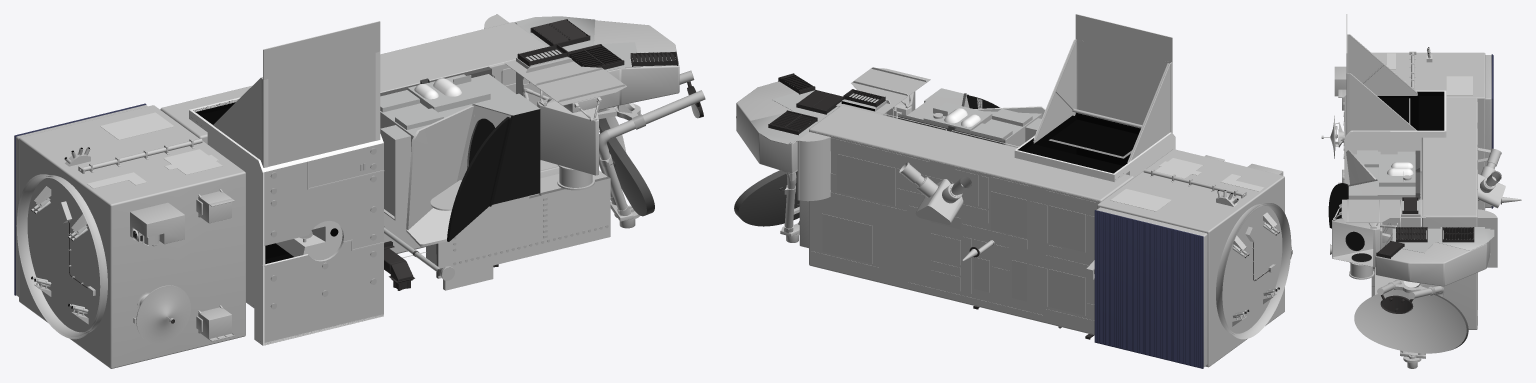
File: Aura_MainBody.obj
The picture shows the model from 3 angles, left to right: view 1: azimuth 30°, elevation 25°; view 2: azimuth 150°, elevation 25°; view 3: azimuth 270°, elevation 25°; orthographic projection. The views are drawn at different scales.
Parts seen in each view (by area): view 1: Main Body_AuraGold, Main Body_TEStop-z, Main Body_TEStop-hood-z, Main Body_aura-mls-sp-ztop, Main Body_aura-hrdls-z-black, Main Body_aura-hrdls-inst-zwhite, Main Body_FLAT_WHITE, Main Body_aura-mainbox-grey, Main Body_TES white, Main Body_aura-hrdls-radiator, Main Body_aura-mainbox-white-flat, Main Body_aura-mainbox-sil-refl-panl (+10 smaller); view 2: Main Body_AuraGold, Main Body_AQUA-SolarPanelFaces, Main Body_TES white, Main Body_aura-mainRadiators55, Main Body_aura-mainbox-grey, Main Body_metalStSG, Main Body_TES interior, Main Body_aura-hrdls-radiator, Main Body_FLAT_WHITE, Main Body_TESblack, Main Body_aura-mainbox-white-flat, Main Body_aura-mainbox-sil-refl-panl (+4 smaller); view 3: Main Body_AuraGold, Main Body_aura-mainRadiators55, Main Body_TES white, Main Body_FLAT_WHITE, Main Body_aura-mainbox-grey, Main Body_aura-hrdls-radiator, Main Body_aura-mainbox-white-flat, Main Body_TES interior, Main Body_aura-mls-radiators-new, Main Body_aura-hrdls-z-black, Main Body_aura-mainbox-sil-refl-panl, Main Body_aura-hrdls-inst-zwhite (+8 smaller).
Boxes of the visible parts, box(x1,y1,x2,y2) form: Main Body_AuraGold: box(16, 14, 705, 368); Main Body_TEStop-z: box(264, 143, 383, 345); Main Body_TEStop-hood-z: box(263, 21, 380, 166); Main Body_aura-mls-sp-ztop: box(438, 178, 610, 290); Main Body_aura-hrdls-z-black: box(31, 109, 540, 308); Main Body_aura-hrdls-inst-zwhite: box(406, 105, 473, 246); Main Body_FLAT_WHITE: box(189, 97, 383, 345); Main Body_aura-mainbox-grey: box(69, 19, 703, 323); Main Body_TES white: box(213, 21, 380, 167); Main Body_aura-hrdls-radiator: box(380, 74, 539, 139); Main Body_aura-mainbox-white-flat: box(68, 59, 626, 284); Main Body_aura-mainbox-sil-refl-panl: box(87, 112, 222, 188); Main Body_AuraGold: box(736, 81, 1292, 367); Main Body_AQUA-SolarPanelFaces: box(1094, 210, 1203, 368); Main Body_TES white: box(1033, 14, 1172, 161); Main Body_aura-mainRadiators55: box(822, 154, 1085, 315); Main Body_aura-mainbox-grey: box(768, 73, 1269, 339); Main Body_metalStSG: box(734, 93, 966, 226); Main Body_TES interior: box(1018, 112, 1140, 173); Main Body_aura-hrdls-radiator: box(907, 88, 1041, 140); Main Body_FLAT_WHITE: box(1014, 132, 1175, 181); Main Body_TESblack: box(1050, 118, 1138, 156); Main Body_aura-mainbox-white-flat: box(836, 67, 1264, 279); Main Body_aura-mainbox-sil-refl-panl: box(1110, 158, 1264, 211); Main Body_AuraGold: box(1321, 47, 1521, 368); Main Body_aura-mainRadiators55: box(1354, 289, 1466, 353); Main Body_TES white: box(1346, 14, 1417, 134); Main Body_FLAT_WHITE: box(1344, 90, 1446, 199); Main Body_aura-mainbox-grey: box(1376, 197, 1501, 313); Main Body_aura-hrdls-radiator: box(1348, 150, 1415, 195); Main Body_aura-mainbox-white-flat: box(1342, 199, 1425, 222); Main Body_TES interior: box(1377, 91, 1444, 130); Main Body_aura-mls-radiators-new: box(1391, 200, 1494, 257); Main Body_aura-hrdls-z-black: box(1328, 183, 1371, 261); Main Body_aura-mainbox-sil-refl-panl: box(1386, 53, 1472, 95); Main Body_aura-hrdls-inst-zwhite: box(1346, 149, 1375, 184).
Size of the model in its own units: 8.72 by 4.05 by 3.44.
